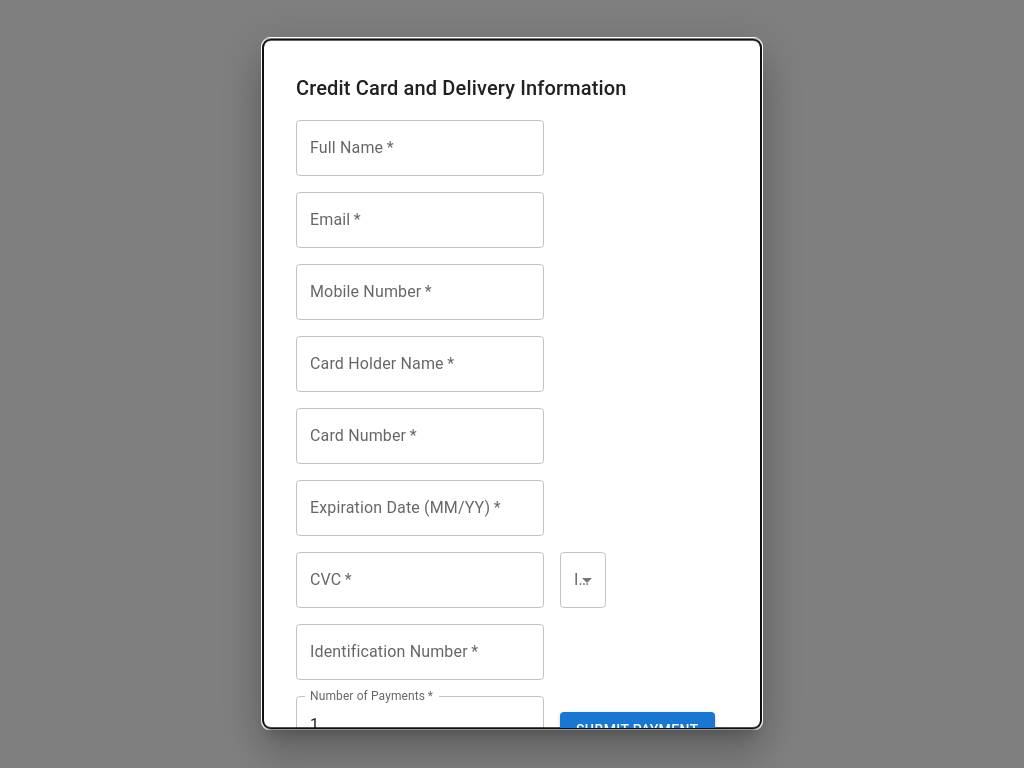
Scenario: PaymentModal › Validation › sanitizes mobile number input
Type "123-456-7890" into the field labelled "Mobile Number *".
click(420, 292); type("123-456-7890")  # box [296,264,544,320]
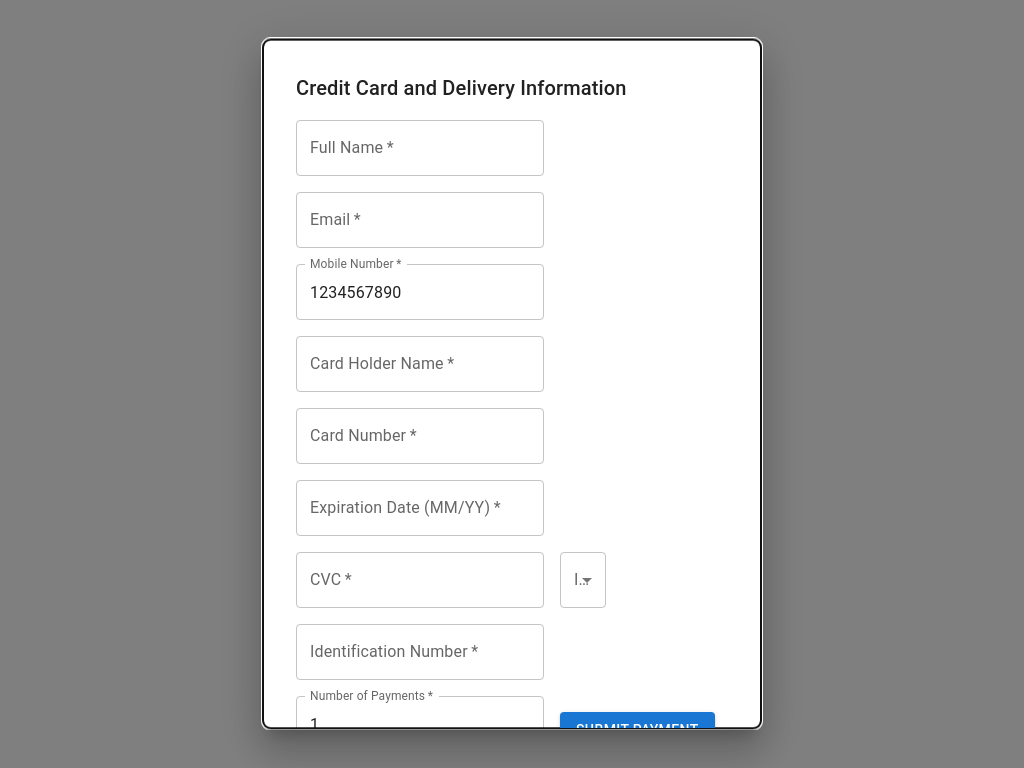
Now the field labelled "Mobile Number *" holds "1234567890", box [296,264,544,320]
